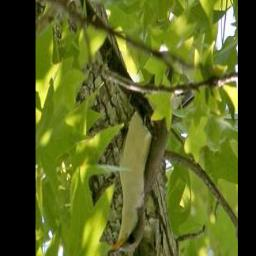Cuckoo: (107, 66, 196, 256)
